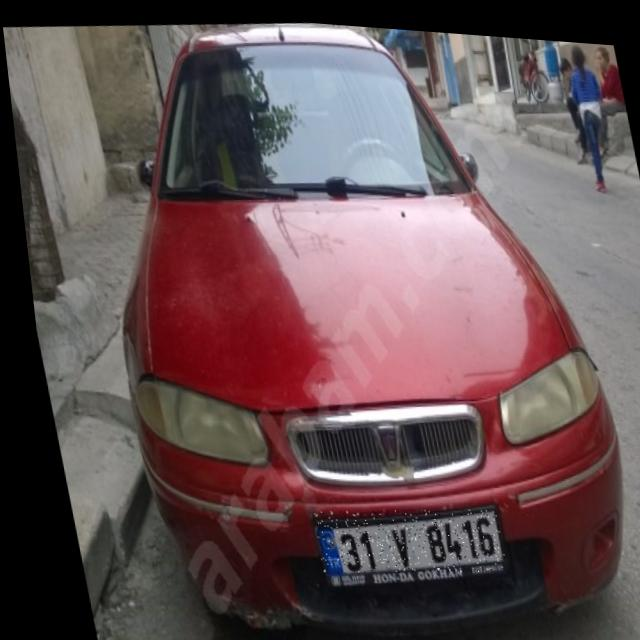license_plate: (298, 491, 496, 580)
